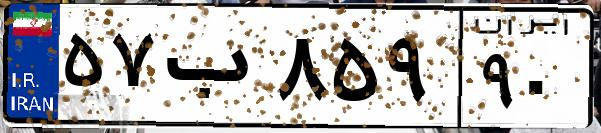0: (525, 38, 570, 115)
5: (330, 28, 385, 110), (57, 26, 110, 100)
7: (110, 28, 158, 98)
8: (270, 28, 330, 110)
9: (385, 28, 445, 110), (475, 38, 525, 113)
ب: (158, 20, 270, 120)
